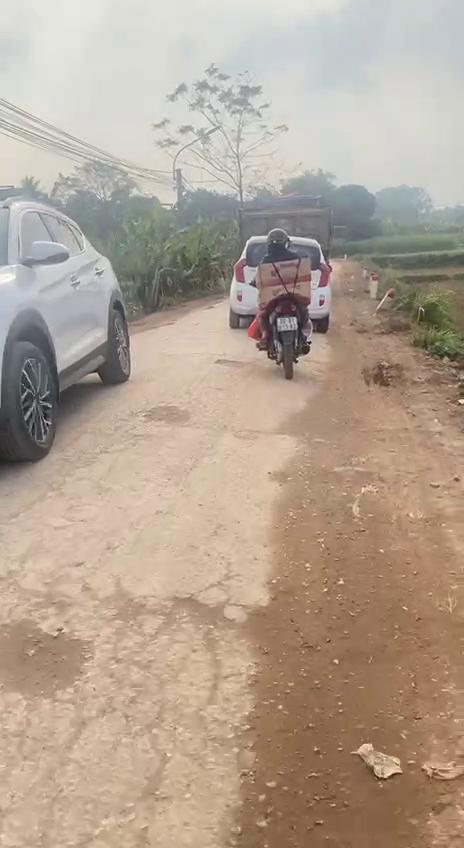pothole: (86, 577, 255, 649), (0, 616, 92, 712), (139, 402, 188, 427)
